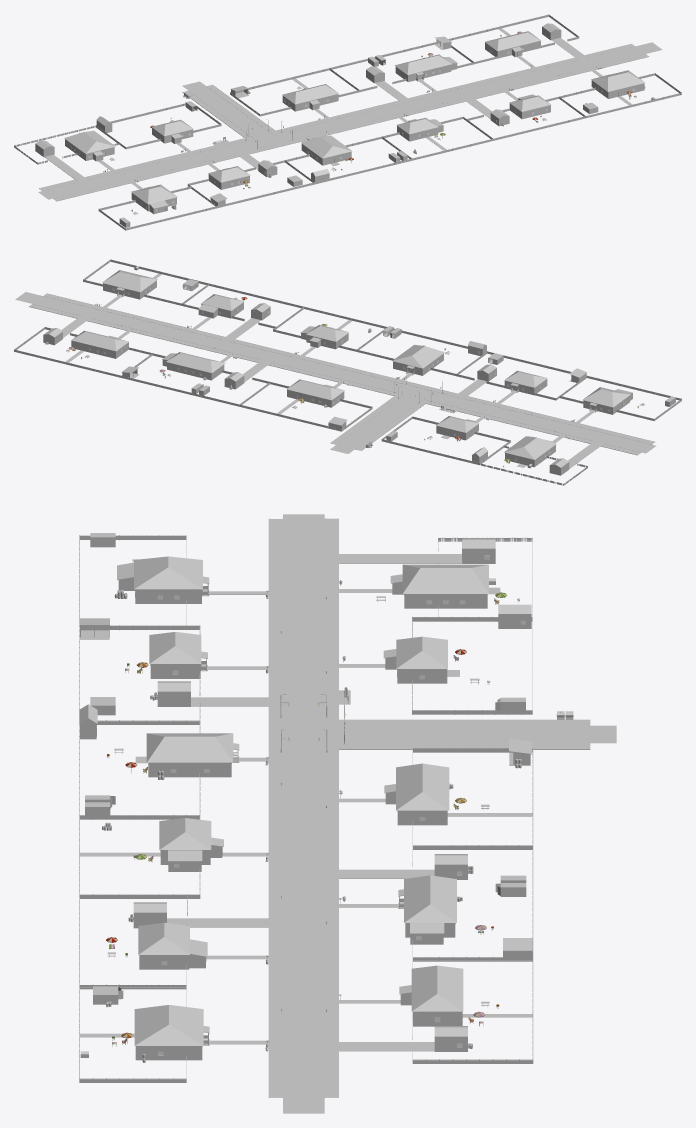
Rendered from PuebloSalmy.fbx.
The picture shows the model from 3 angles, top to bottom: view 1: azimuth 30°, elevation 25°; view 2: azimuth 150°, elevation 25°; view 3: azimuth 270°, elevation 25°; orthographic projection. The views are drawn at different scales.
Visible parts, largest first — view 1: Plane.003, Tropka.012, Tropka.003, Tropka.006, Roof.012, Roof, Roof.008, Roof.004, Roof.006, RoofHause, Zabor.013, Zabor.009 (+20 smaller); view 2: Plane.003, Tropka.012, Tropka.003, Tropka.006, Roof, Roof.012, Roof.008, Roof.004, Roof.006, Zabor.009, Zabor.007, RoofHause (+19 smaller); view 3: Plane.003, Tropka.012, Tropka.003, Tropka.006, Roof.008, Roof.012, Roof, Roof.006, Roof.004, RoofHause, Roof.013, RoofHause.004 (+17 smaller).
Boxes of the visible parts, x1,y1,x2,y2 form: Plane.003: [38, 42, 662, 199]; Tropka.012: [53, 54, 649, 201]; Tropka.003: [207, 43, 634, 134]; Tropka.006: [84, 90, 254, 179]; Roof.012: [301, 135, 352, 158]; Roof: [64, 131, 115, 153]; Roof.008: [591, 70, 645, 91]; Roof.004: [394, 54, 452, 74]; Roof.006: [282, 84, 338, 104]; RoofHause: [485, 31, 540, 51]; Zabor.013: [559, 73, 681, 118]; Zabor.009: [95, 102, 221, 149]; Plane.003: [15, 292, 656, 453]; Tropka.012: [43, 293, 654, 444]; Tropka.003: [29, 304, 404, 444]; Tropka.006: [355, 399, 593, 450]; Roof: [504, 436, 556, 459]; Roof.012: [392, 344, 444, 368]; Roof.008: [102, 270, 157, 292]; Roof.004: [166, 352, 225, 372]; Roof.006: [286, 379, 344, 400]; Zabor.009: [381, 416, 510, 465]; Zabor.007: [239, 382, 372, 431]; RoofHause: [71, 330, 128, 351]; Plane.003: [283, 514, 616, 1113]; Tropka.012: [268, 518, 282, 1097]; Tropka.003: [324, 743, 590, 1097]; Tropka.006: [324, 563, 590, 725]; Roof.008: [134, 1005, 203, 1045]; Roof.012: [146, 733, 233, 762]; Roof: [402, 564, 488, 593]; Roof.006: [396, 763, 449, 810]; Roof.004: [404, 875, 456, 922]; RoofHause: [411, 965, 463, 1011]; Roof.013: [134, 556, 202, 589]; RoofHause.004: [149, 632, 201, 663].
Size of the model in its own units: 34020 by 758 by 12885.
